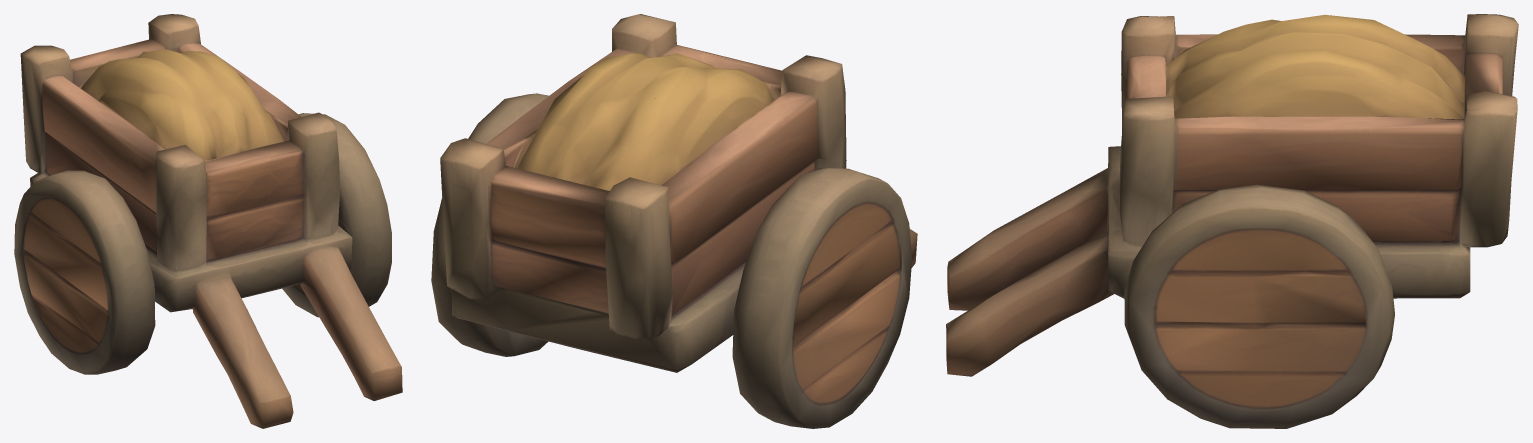
Rendered from cart.glb.
The picture shows the model from 3 angles, left to right: view 1: azimuth 30°, elevation 25°; view 2: azimuth 150°, elevation 25°; view 3: azimuth 270°, elevation 25°; orthographic projection. The views are drawn at different scales.
Parts seen in each view (by area): view 1: geometry_0.001; view 2: geometry_0.001; view 3: geometry_0.001.
Boxes of the visible parts, x1,y1,x2,y2 form: geometry_0.001: (14, 14, 402, 428); geometry_0.001: (431, 14, 917, 428); geometry_0.001: (946, 14, 1518, 428).
Bounding box in the file's own units: 1.38 × 1.24 × 1.99.
1 material, 1 textured.
